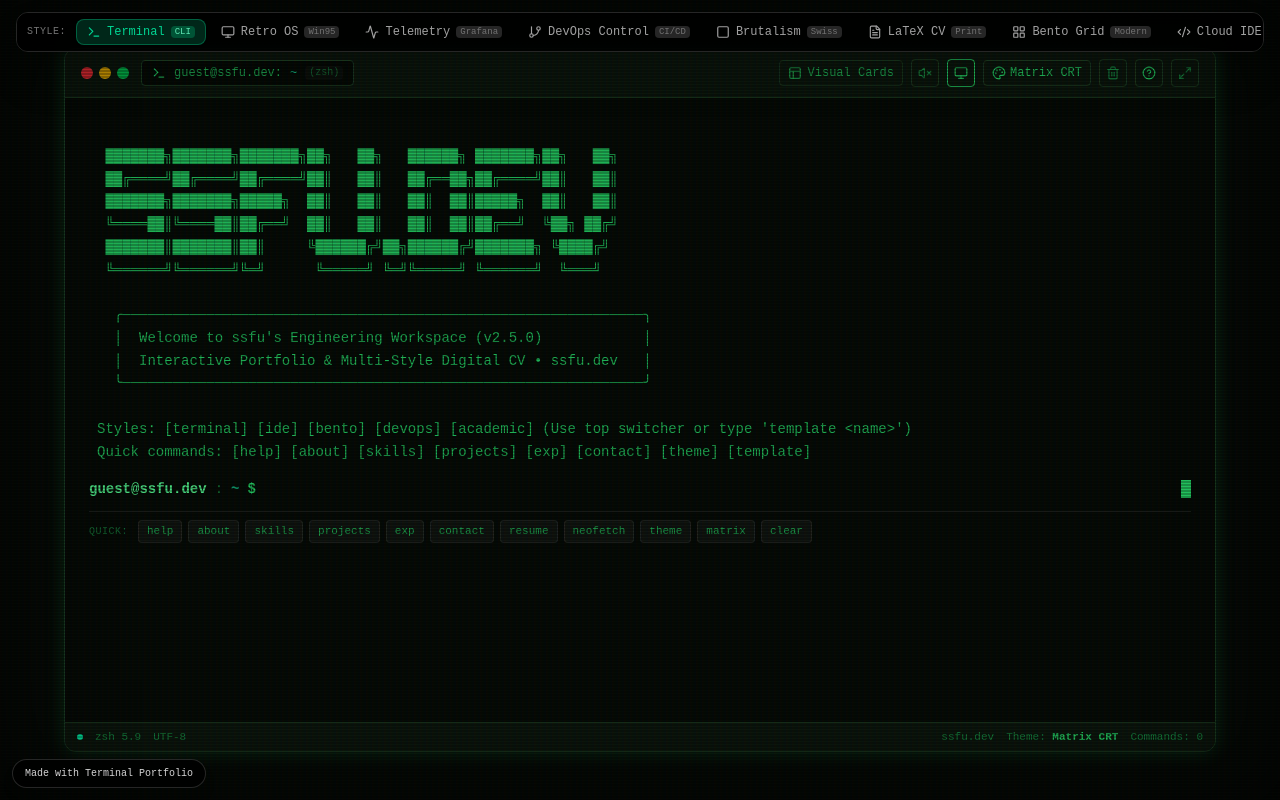
Scenario: App browser state integration › makes easter egg commands unavailable when configuration disables them
Type "sudo hire me" into the field with id "terminal-active-input".
click(723, 489); type("sudo hire me")  # box top-left (264, 479), bottom-right (1182, 499)
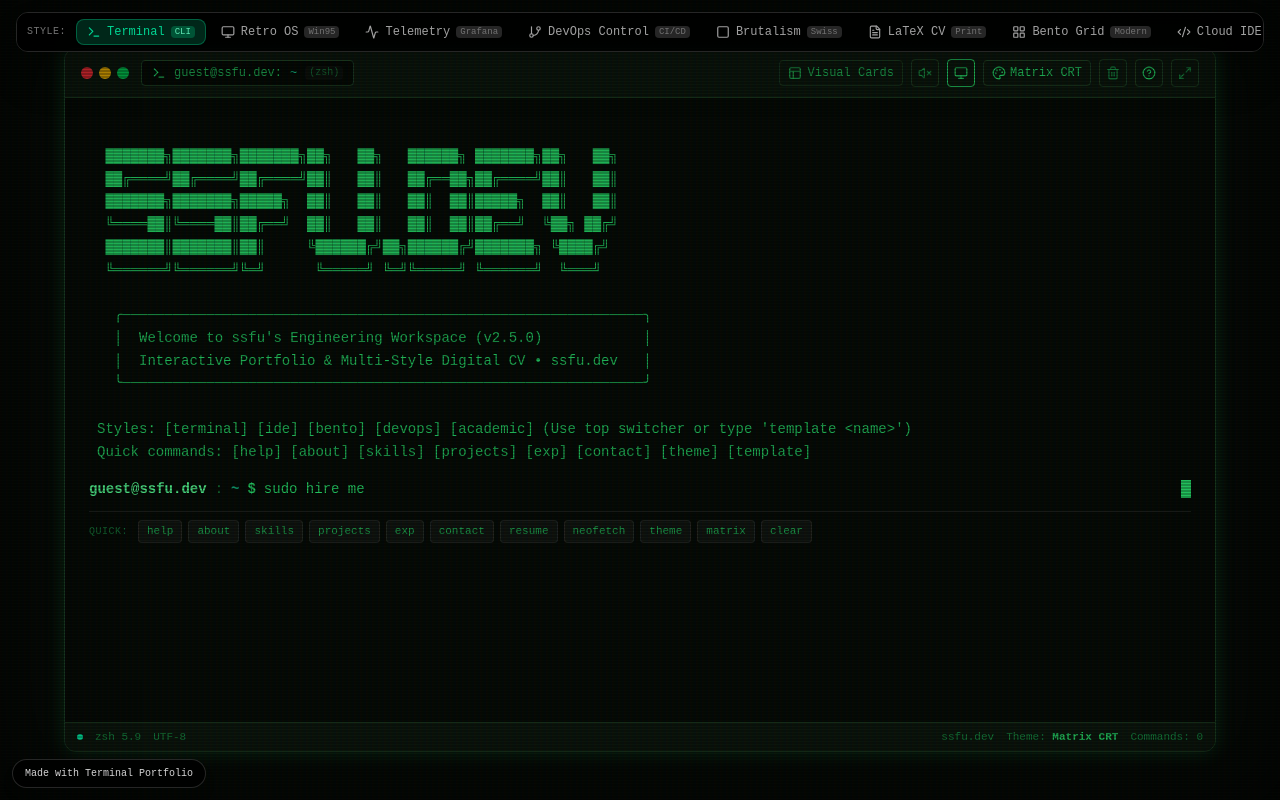
Press Enter in the field with id "terminal-active-input", box top-left (264, 479), bottom-right (1182, 499)
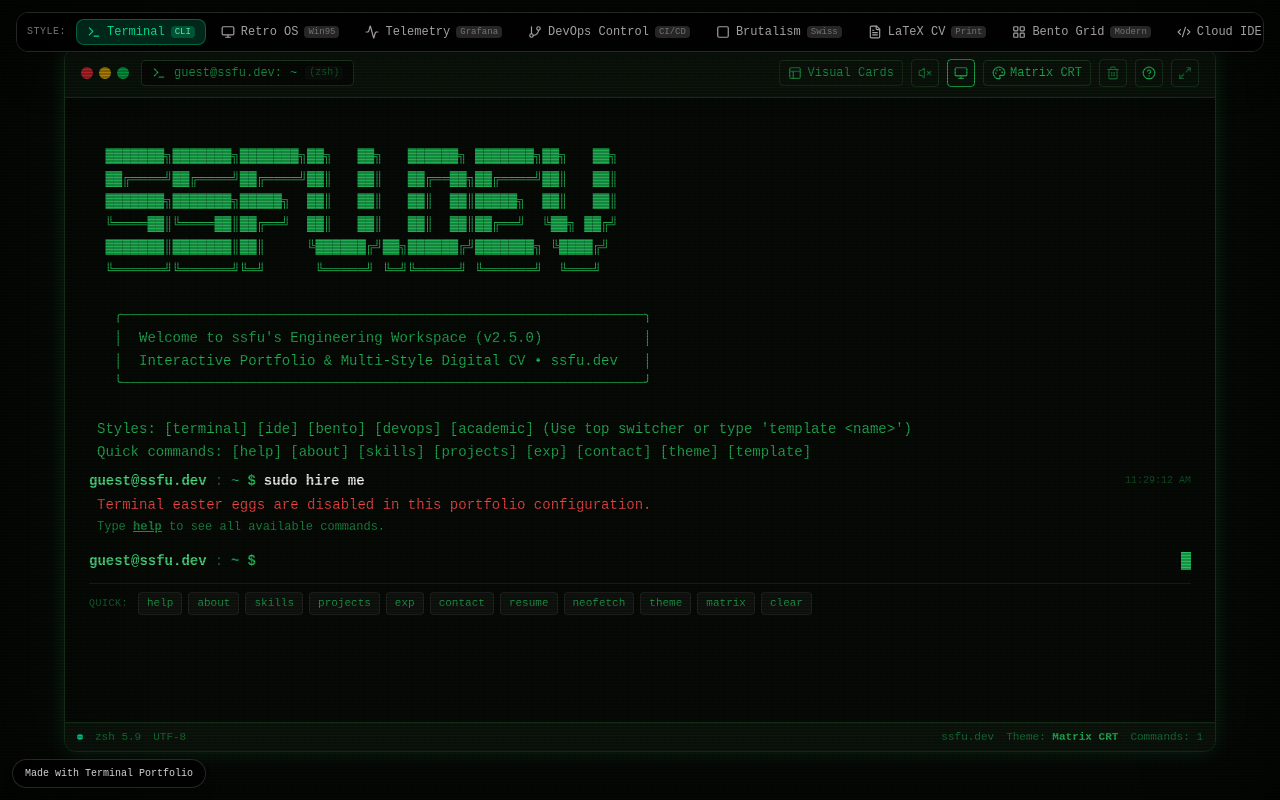
Result: the text "Terminal easter eggs are disabled in this portfolio configuration." is shown at top-left (97, 497), bottom-right (652, 513)
